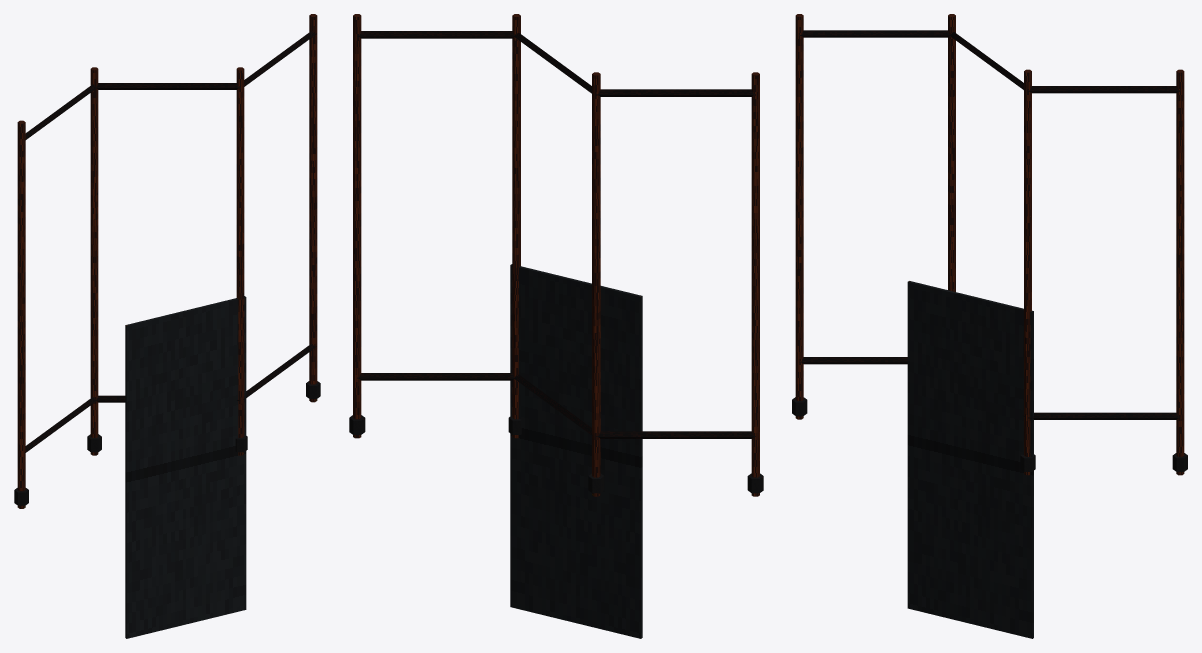
Rendered from medical_screen_derelict_decay.glb.
3 renders of one model, left to right at view 1: azimuth 30°, elevation 25°; view 2: azimuth 150°, elevation 25°; view 3: azimuth 330°, elevation 25°, orthographic. The views are drawn at different scales.
Parts seen in each view (by area): view 1: medical_screen_derelict_decay; view 2: medical_screen_derelict_decay; view 3: medical_screen_derelict_decay.
Part boxes in pixels (left/top/right/bottom): medical_screen_derelict_decay: left=14, top=14, right=320, bottom=638; medical_screen_derelict_decay: left=349, top=14, right=763, bottom=638; medical_screen_derelict_decay: left=792, top=14, right=1187, bottom=638.
Size of the model in its own units: 1.61 by 2.46 by 0.36.
3 materials, 3 textured.
